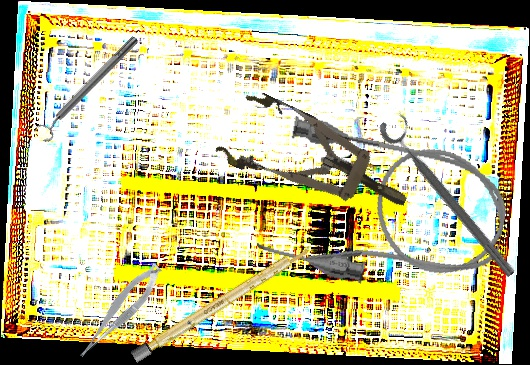Cannula: (253, 112, 517, 309)
Fixation Ring: (375, 108, 528, 282), (31, 31, 145, 145)
Micro Scissor: (66, 259, 172, 363)
Scalpel Handle: (130, 242, 313, 363)
Speculum: (212, 84, 422, 239)
